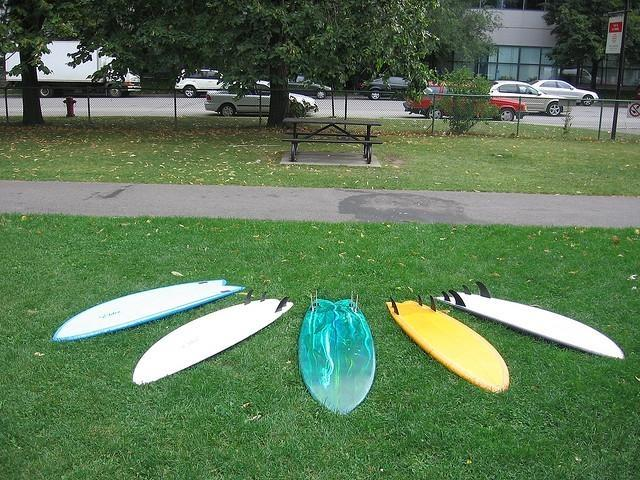car: (403, 80, 528, 122), (204, 80, 317, 116), (489, 80, 566, 116), (528, 79, 600, 106), (175, 68, 232, 98), (107, 68, 141, 98), (368, 76, 408, 99), (288, 79, 334, 98)
truck: (4, 40, 142, 99)
